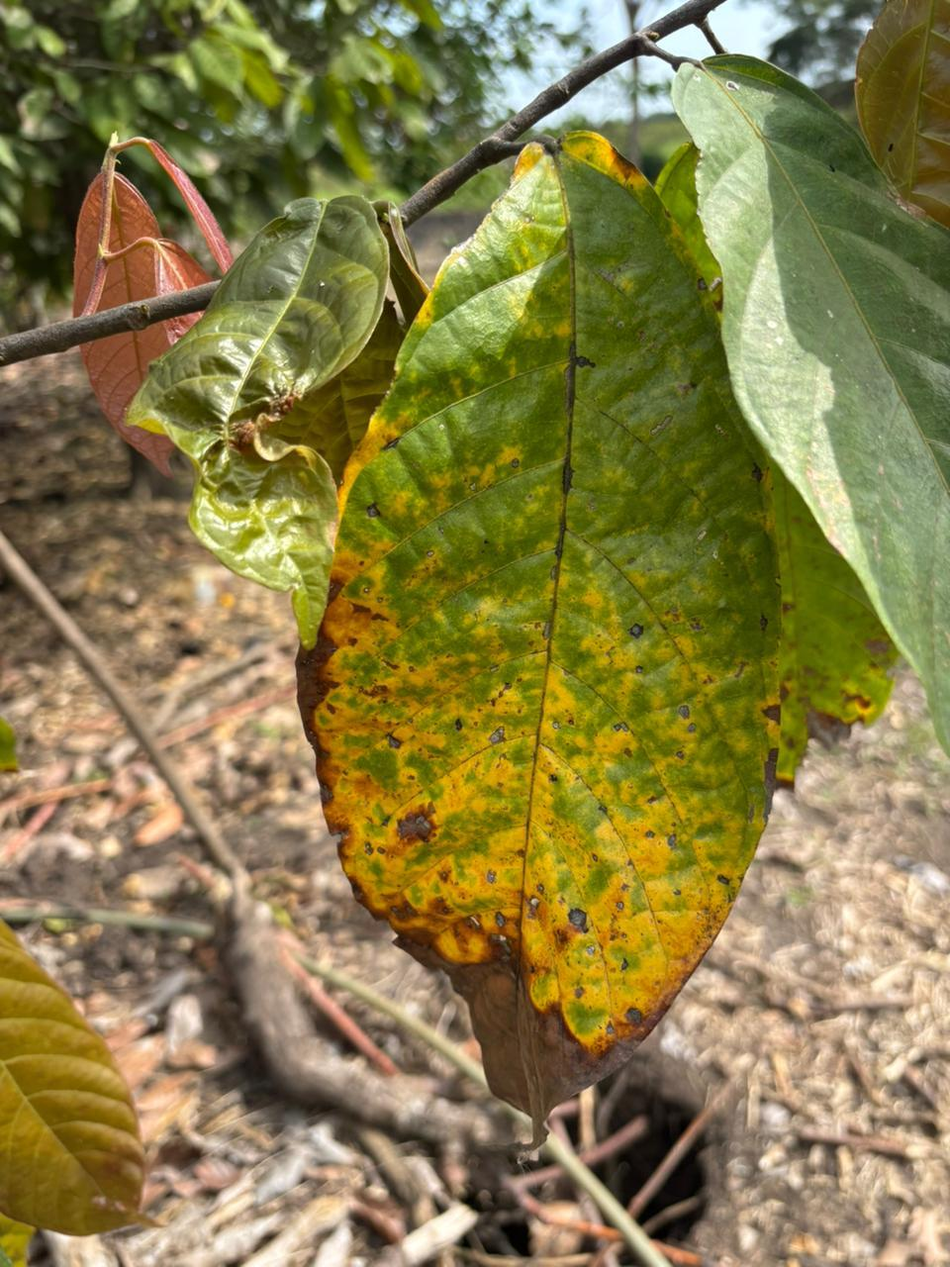deficienciia_fosforo: (300, 132, 779, 1121)
